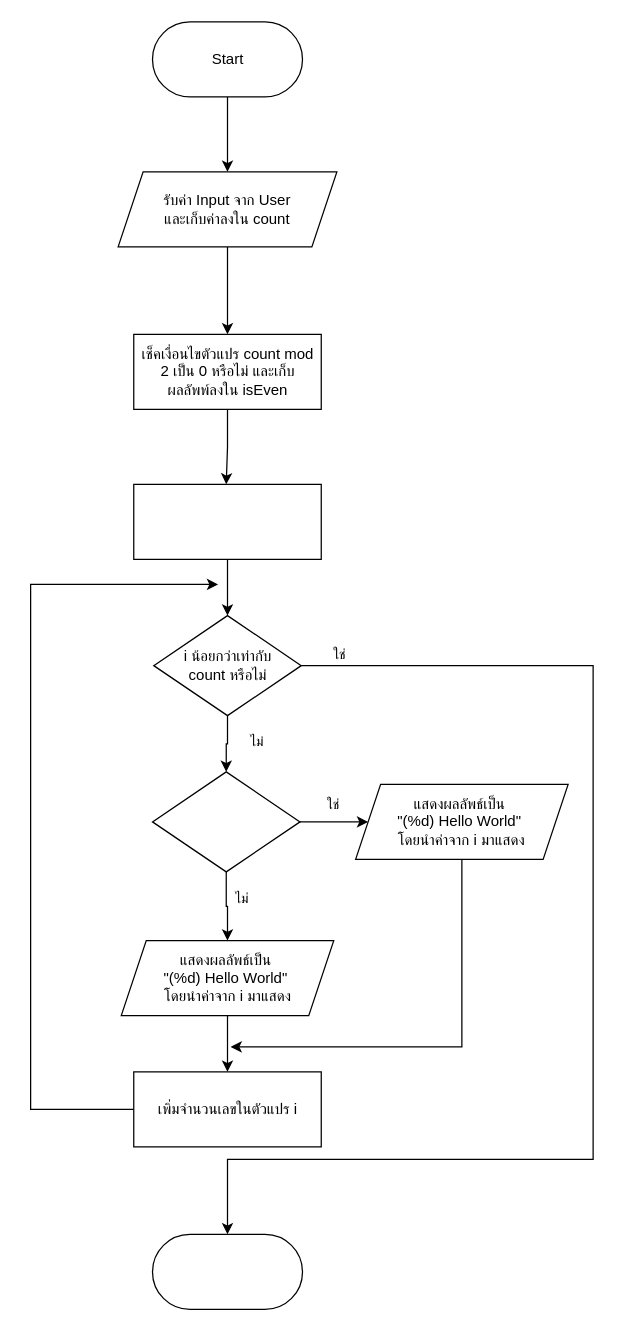
Image size: 625x1331. Some labels were removed from this diagram. Each missing label, with the centre of its shape:
End: point (226, 1271)
กำหนดตัวแปร i เป็น 1: point (226, 521)
ตัวแปรน isEven เป็นจริงหรือไม่: point (225, 821)
